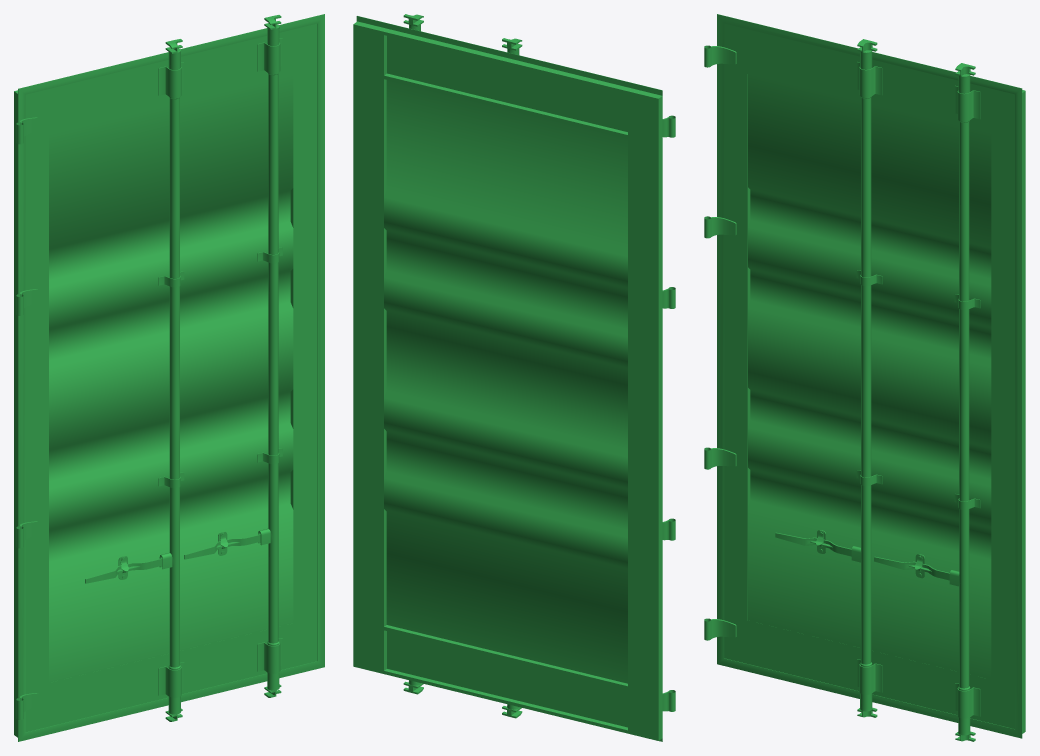
The model's file is SM_ShipContainer_DoorL.fbx.
The picture shows the model from 3 angles, left to right: view 1: azimuth 30°, elevation 25°; view 2: azimuth 150°, elevation 25°; view 3: azimuth 330°, elevation 25°; orthographic projection.
Visible parts, largest first — view 1: ShipContainer_DoorL; view 2: ShipContainer_DoorL; view 3: ShipContainer_DoorL.
Part boxes in pixels (left/top/right/bottom): ShipContainer_DoorL: left=14, top=14, right=324, bottom=741; ShipContainer_DoorL: left=353, top=14, right=675, bottom=741; ShipContainer_DoorL: left=704, top=14, right=1025, bottom=741.
Size of the model in its own units: 122 by 251 by 7.74.
